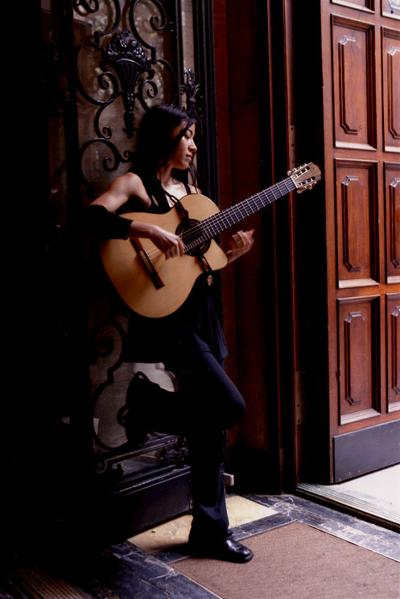person: (81, 105, 255, 568)
